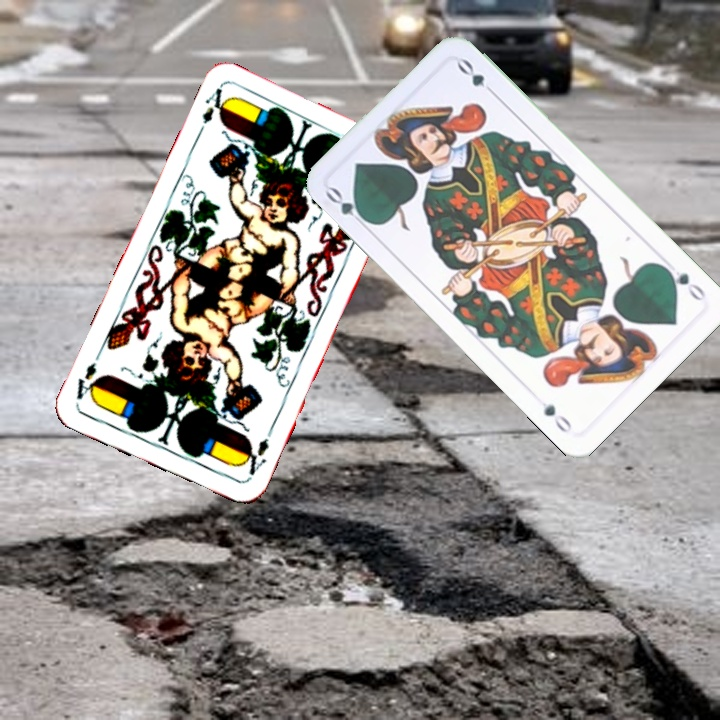EA: (193, 83, 232, 140), (238, 426, 275, 483)
GO: (321, 182, 373, 231), (659, 262, 708, 304)
